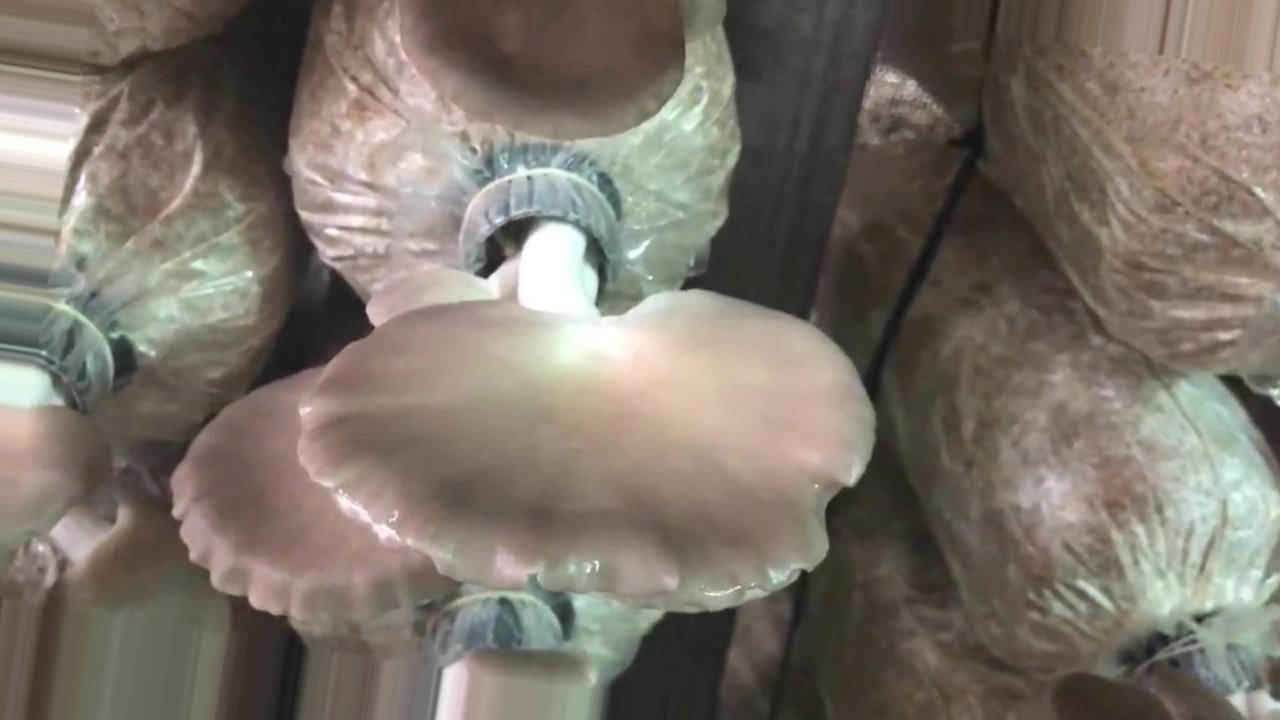nam: (300, 152, 880, 613), (166, 364, 459, 616), (1, 292, 193, 610), (395, 1, 689, 143)
